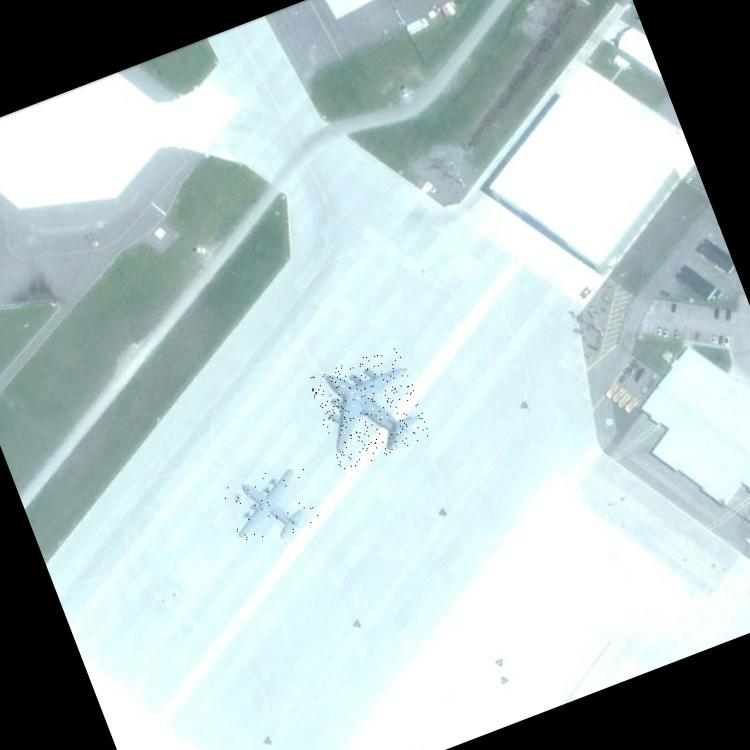A2: (212, 458, 324, 556)
A3: (306, 344, 433, 472)
